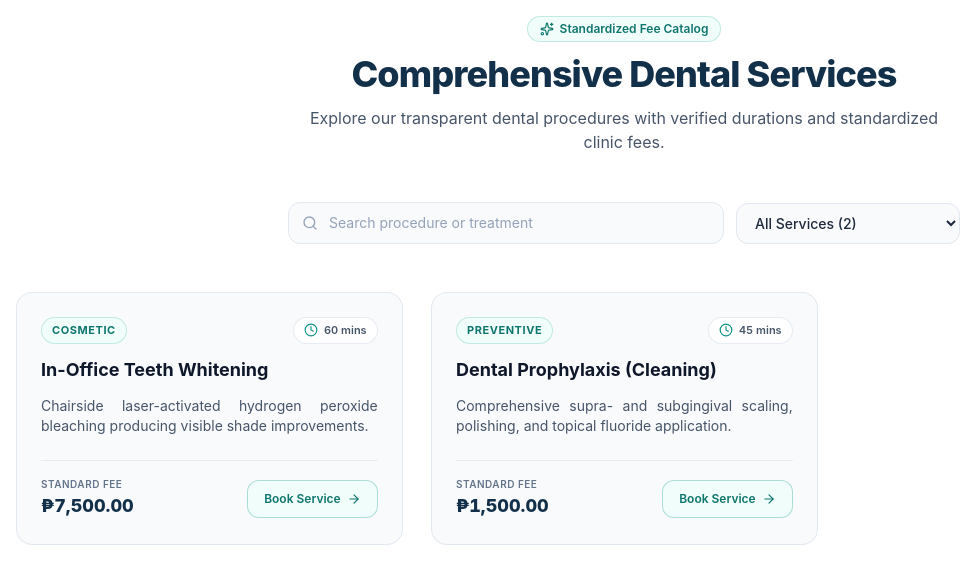
Test case: ServicesSection Component › renders active services with justified descriptions, filters by category, and invokes onBookService
Later steps or results of the test are not shown.
Expected: the heading "In-Office Teeth Whitening" is shown, [41,358,268,380]
Expected: the heading "Dental Prophylaxis (Cleaning)" is shown, [456,358,716,380]
Select "Cosmetic" in the dropdown named "Filter dental services by category": (848, 223) [736,202,960,244]
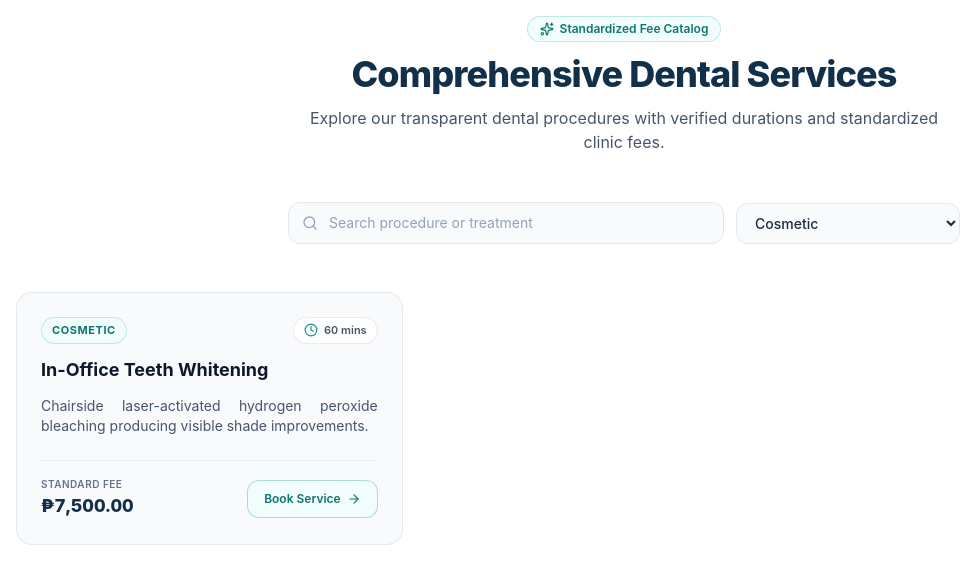
Expected: the heading "In-Office Teeth Whitening" is shown, [41,358,268,380]
Expected: the heading "Dental Prophylaxis (Cleaning)" is gone
